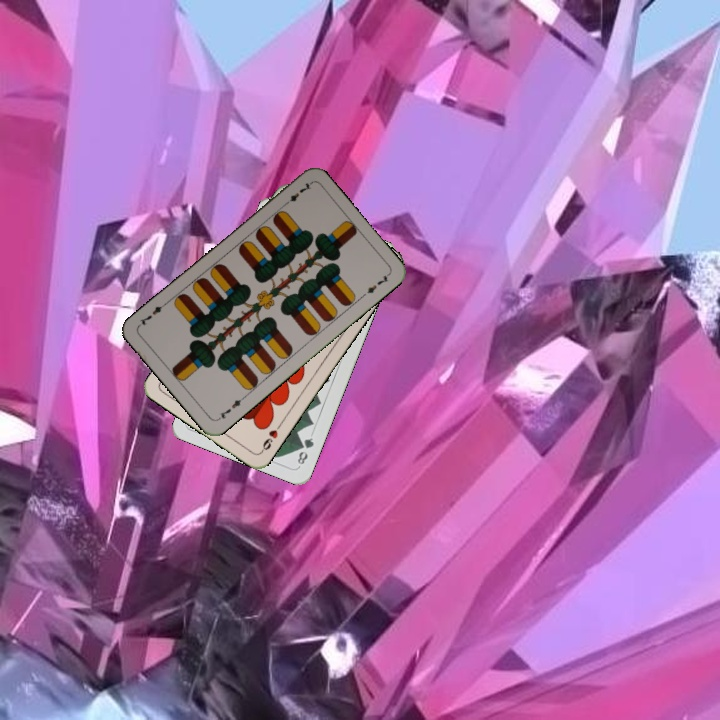E7: (214, 392, 248, 423), (279, 179, 314, 209)
G8: (293, 433, 316, 467)
H9: (257, 419, 284, 455)
